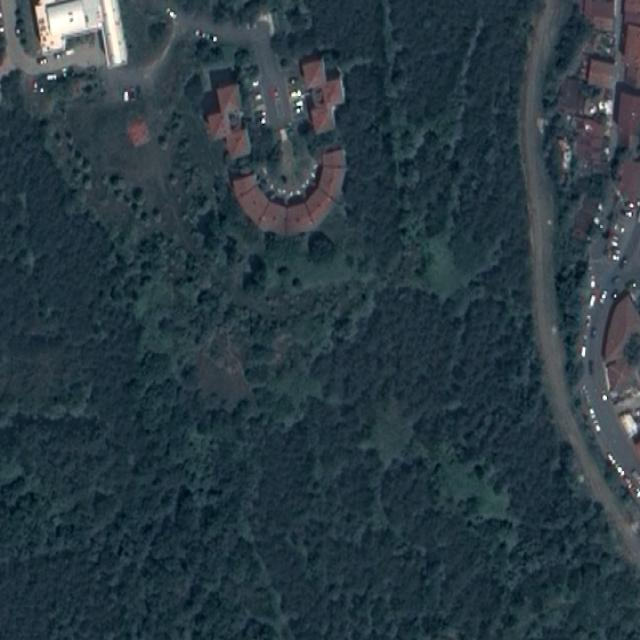Batiment: (231, 149, 345, 234), (602, 293, 640, 457), (35, 0, 128, 67), (300, 54, 345, 134), (204, 84, 251, 159), (614, 83, 640, 145), (618, 161, 640, 201), (588, 57, 614, 88), (582, 0, 614, 20), (624, 24, 640, 62)
